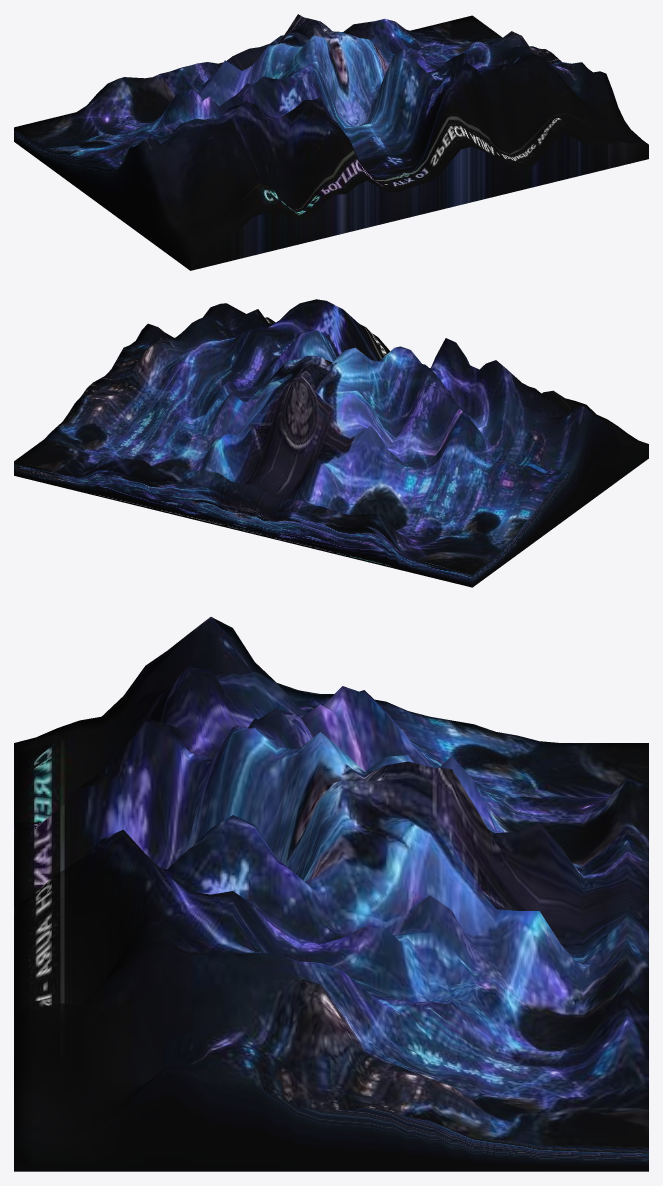
The model's file is CAREER_12_VFX_01_Speech.glb.
The picture shows the model from 3 angles, top to bottom: view 1: azimuth 30°, elevation 25°; view 2: azimuth 150°, elevation 25°; view 3: azimuth 270°, elevation 25°; orthographic projection. The views are drawn at different scales.
Visible parts, largest first — view 1: CAREER_12_VFX_01_Speech; view 2: CAREER_12_VFX_01_Speech; view 3: CAREER_12_VFX_01_Speech.
Boxes of the visible parts, bbox=[...] form: CAREER_12_VFX_01_Speech: bbox=[14, 14, 648, 270]; CAREER_12_VFX_01_Speech: bbox=[14, 299, 648, 587]; CAREER_12_VFX_01_Speech: bbox=[14, 617, 648, 1171].
Size of the model in its own units: 2 by 0.51 by 1.33.
Materials: 1 (1 with a texture image).
